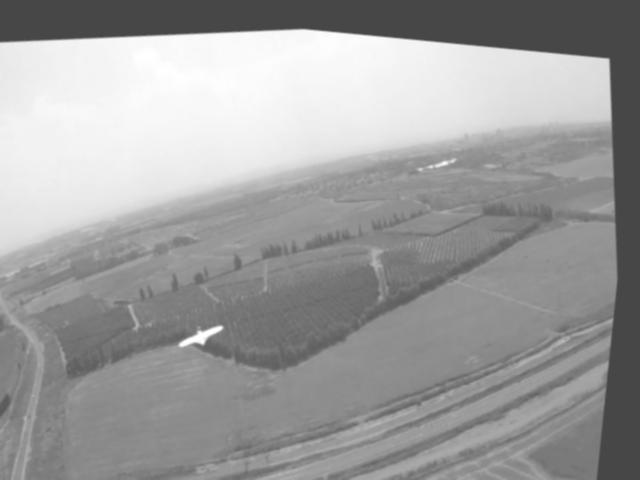hedef: (175, 306, 238, 364)
